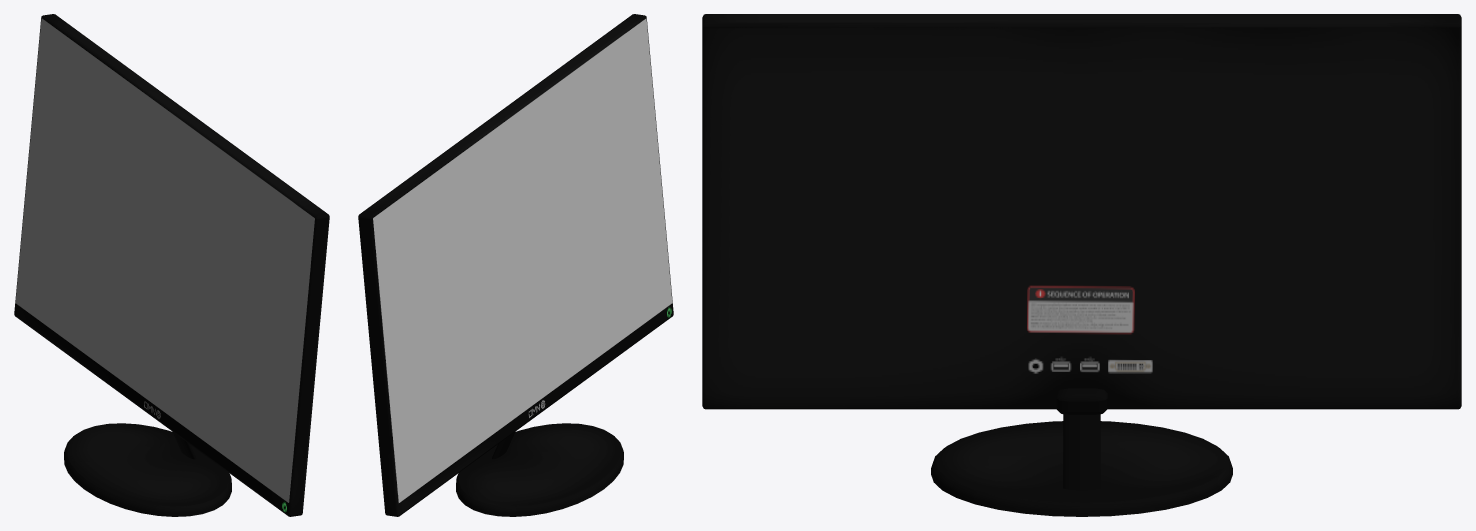
File: SM_WideMonitor.fbx
3 views of the same model, side by side, from view 1: azimuth 30°, elevation 25°; view 2: azimuth 150°, elevation 25°; view 3: azimuth 270°, elevation 25° (orthographic). The views are drawn at different scales.
Visible parts, largest first — view 1: SM_WideMonitor_LOD0; view 2: SM_WideMonitor_LOD0; view 3: SM_WideMonitor_LOD0.
Part boxes in pixels (x1,y1,x2,y2): SM_WideMonitor_LOD0: [14, 14, 329, 516]; SM_WideMonitor_LOD0: [358, 14, 673, 516]; SM_WideMonitor_LOD0: [702, 14, 1461, 516].
Size of the model in its own units: 22.57 by 84.46 by 59.12.
